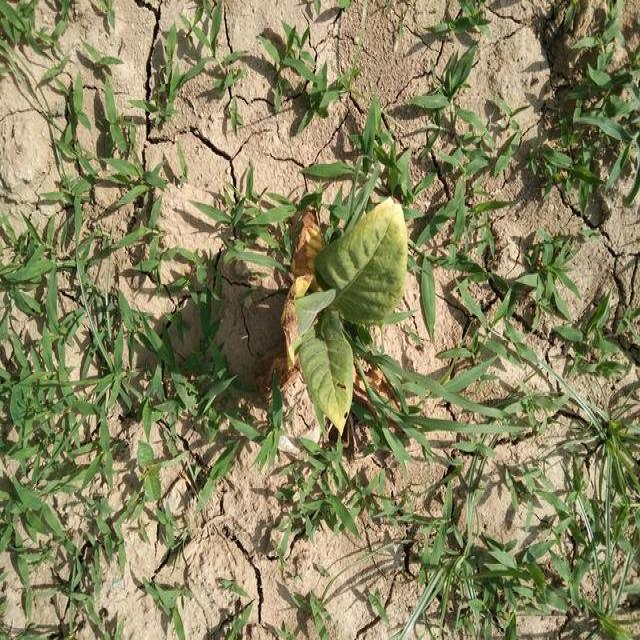crop: (278, 167, 418, 444)
